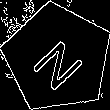N_NE: (26, 26, 89, 90)
